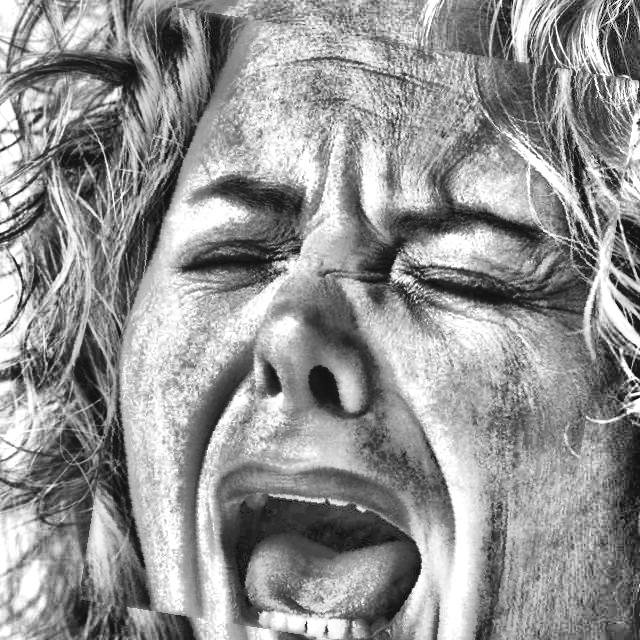sad: (100, 23, 617, 640)
